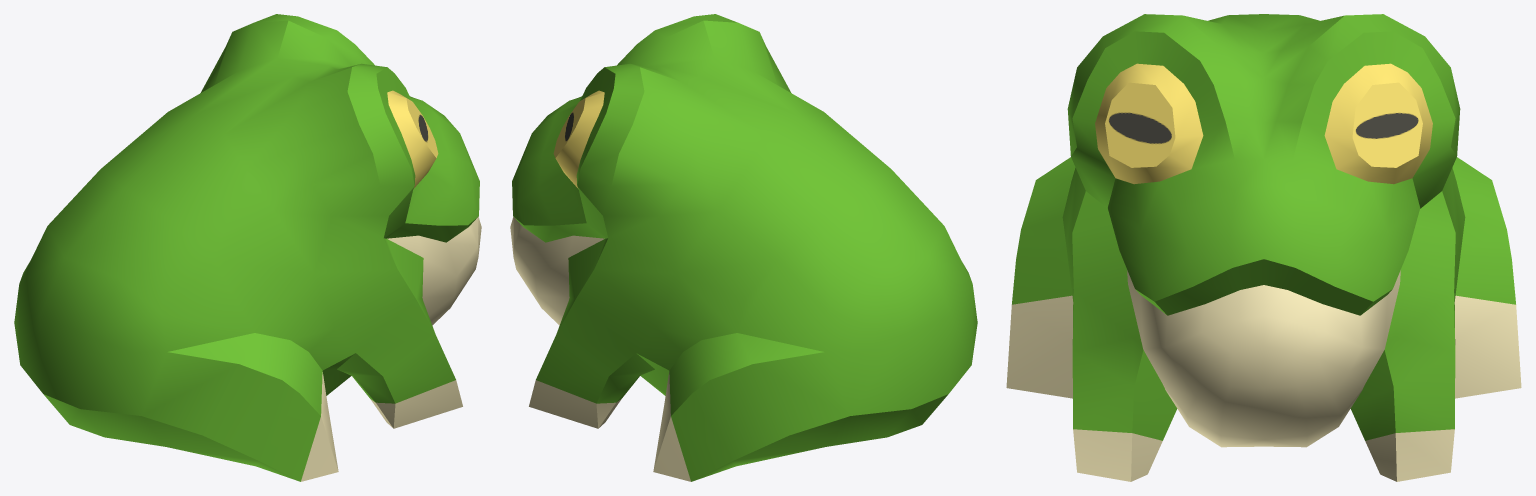
Rendered from frog.fbx.
3 renders of one model, left to right at view 1: azimuth 30°, elevation 25°; view 2: azimuth 150°, elevation 25°; view 3: azimuth 270°, elevation 25°, orthographic. The views are drawn at different scales.
Visible parts, largest first — view 1: frog; view 2: frog; view 3: frog.
Part boxes in pixels (x1=…): frog: x1=14, y1=14, x2=481, y2=481; frog: x1=510, y1=14, x2=977, y2=481; frog: x1=1006, y1=14, x2=1521, y2=481.
Size of the model in its own units: 448 by 343 by 369.
1 material, 1 textured.
